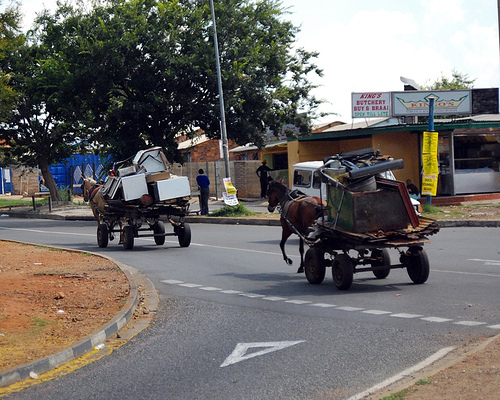horse: (266, 178, 332, 273), (78, 172, 115, 240)
